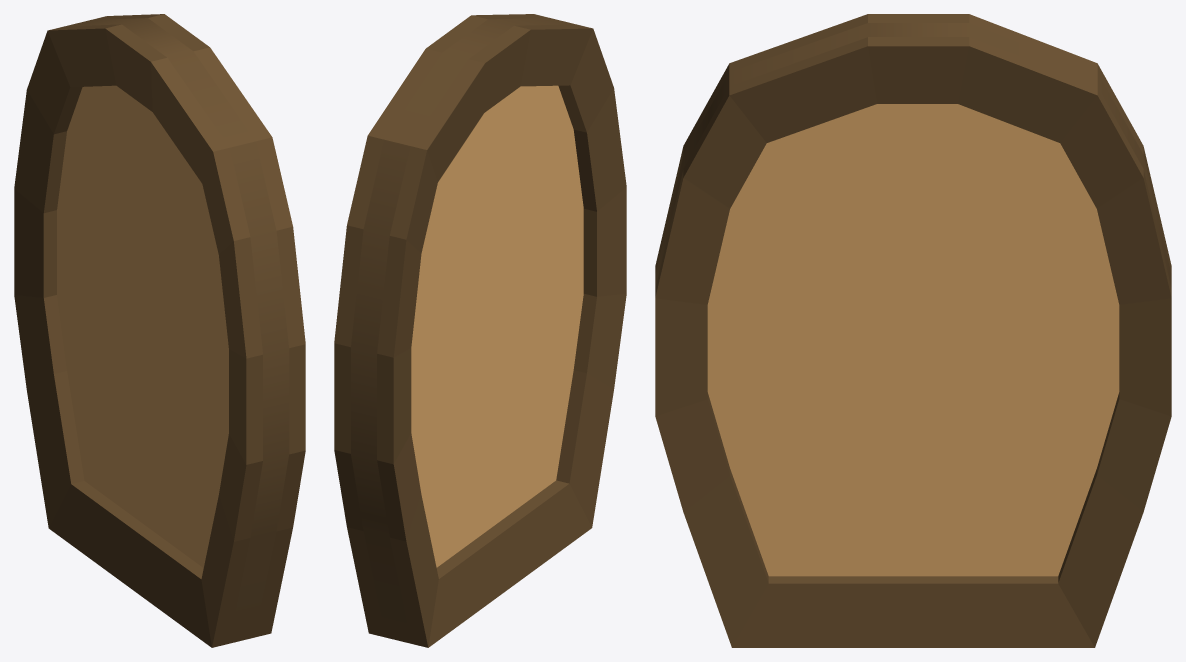
Rendered from Door2.fbx.
The picture shows the model from 3 angles, left to right: view 1: azimuth 30°, elevation 25°; view 2: azimuth 150°, elevation 25°; view 3: azimuth 270°, elevation 25°; orthographic projection. The views are drawn at different scales.
Visible parts, largest first — view 1: pCube2; view 2: pCube2; view 3: pCube2.
Boxes of the visible parts, x1,y1,x2,y2 form: pCube2: [14, 14, 305, 647]; pCube2: [334, 14, 626, 647]; pCube2: [655, 14, 1171, 647].
Size of the model in its own units: 1.01 by 8.82 by 6.85.
